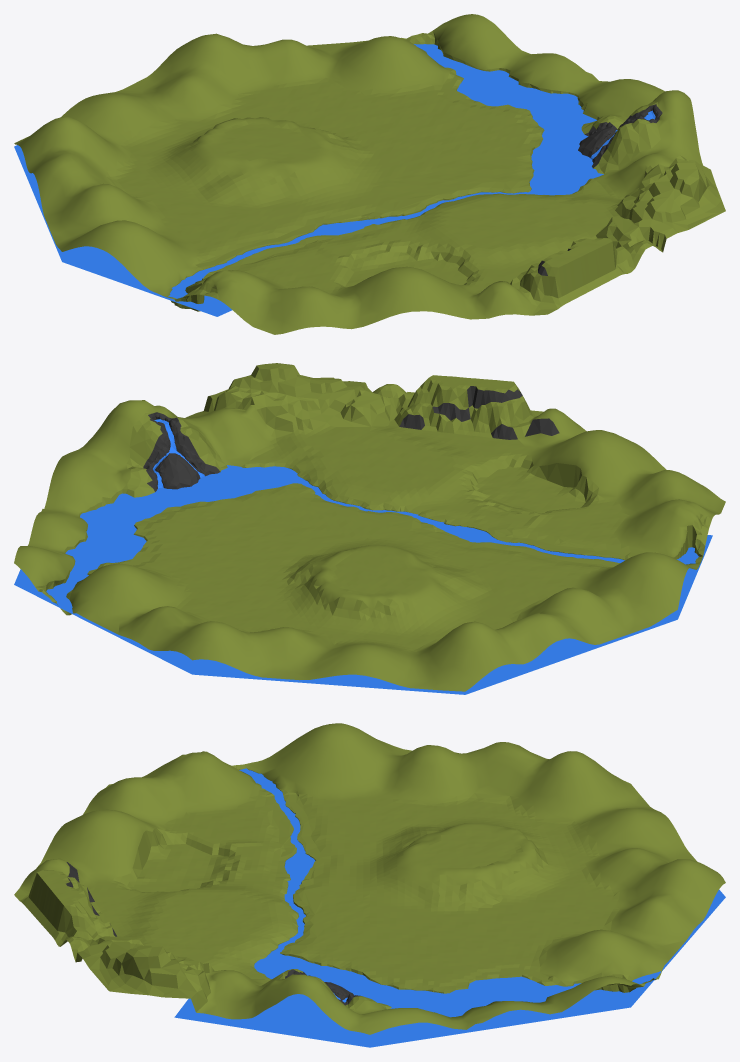
File: 20201026mapaRedondoRioSmooth.fbx
3 renders of one model, top to bottom at view 1: azimuth 30°, elevation 25°; view 2: azimuth 150°, elevation 25°; view 3: azimuth 270°, elevation 25°, orthographic.
Visible parts, largest first — view 1: Mapa Kaingangue.002, Agua; view 2: Mapa Kaingangue.002, Agua; view 3: Mapa Kaingangue.002, Agua.
Part boxes in pixels (x1,y1,x2,y2): Mapa Kaingangue.002: (14,14,725,334); Agua: (14,44,603,316); Mapa Kaingangue.002: (14,363,725,691); Agua: (14,465,712,694); Mapa Kaingangue.002: (14,723,725,1034); Agua: (174,768,725,1047).
Size of the model in its own units: 11000 by 1142 by 11000.
